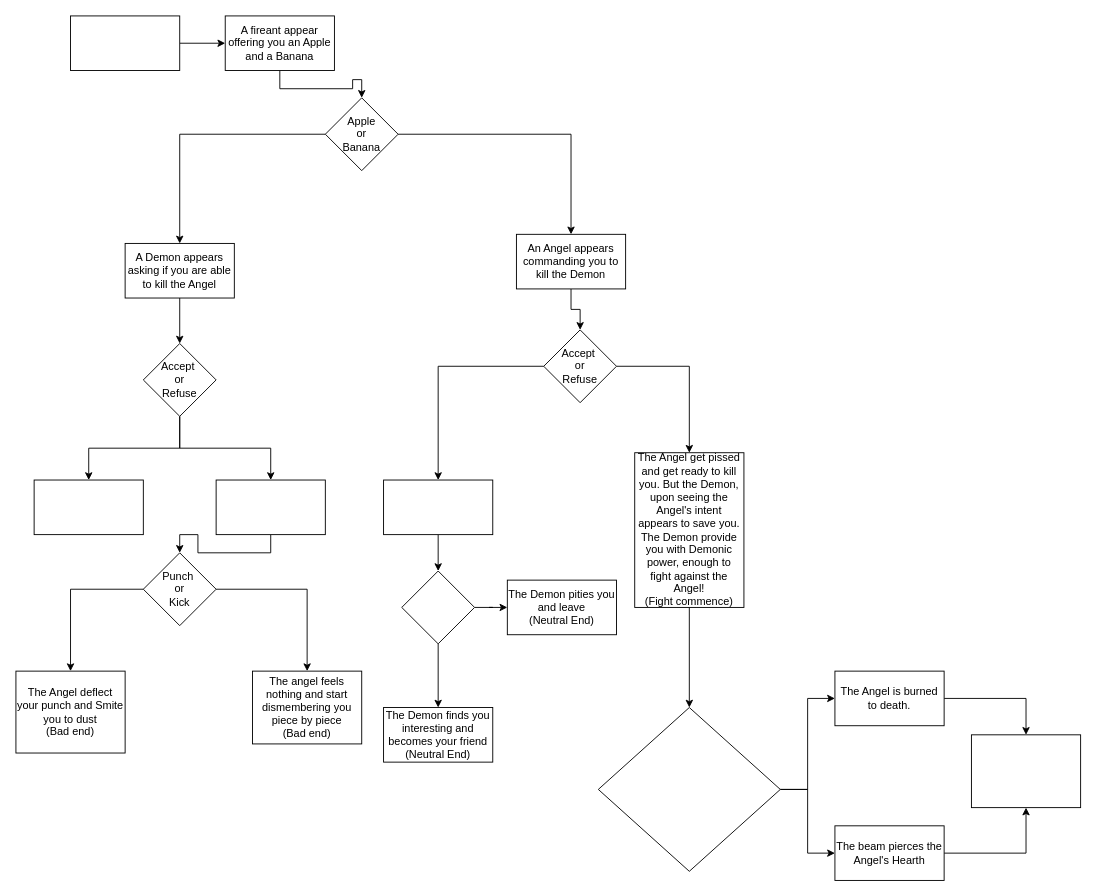
The diagram is 1097 pixels wide and 896 high, and some of its shapes have lost their labels. The shapes that lost their labels are listed below. From the top down, each one's centre as x and y in pixels, then its label:
At (x=125, y=43): "Start".
At (x=88, y=507): "The Demon understand and leave".
At (x=270, y=507): "You fight the Angel".
At (x=438, y=507): "The powerful Demon appears".
At (x=438, y=607): "Laugh or Cry".
At (x=688, y=789): "Breat fire at the Angel or Fire a lazer beam".
At (x=1026, y=771): "You and the Demon becomes great friends (Happy end)".
